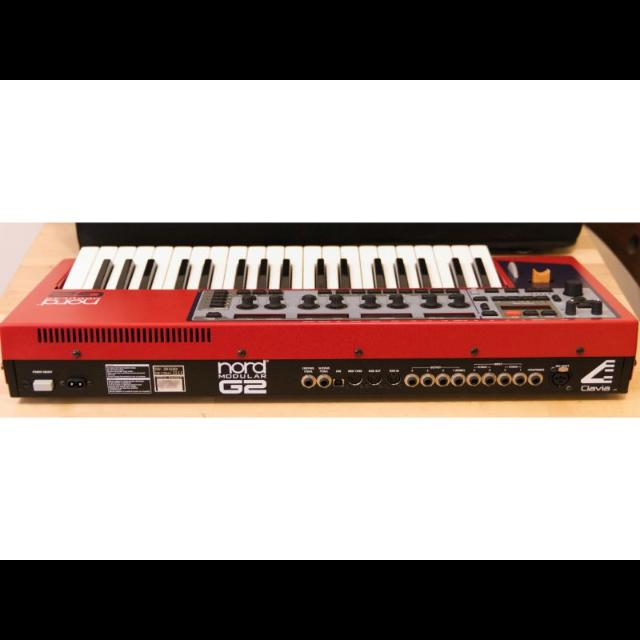Electronic-Keyboard: (6, 239, 628, 397)
